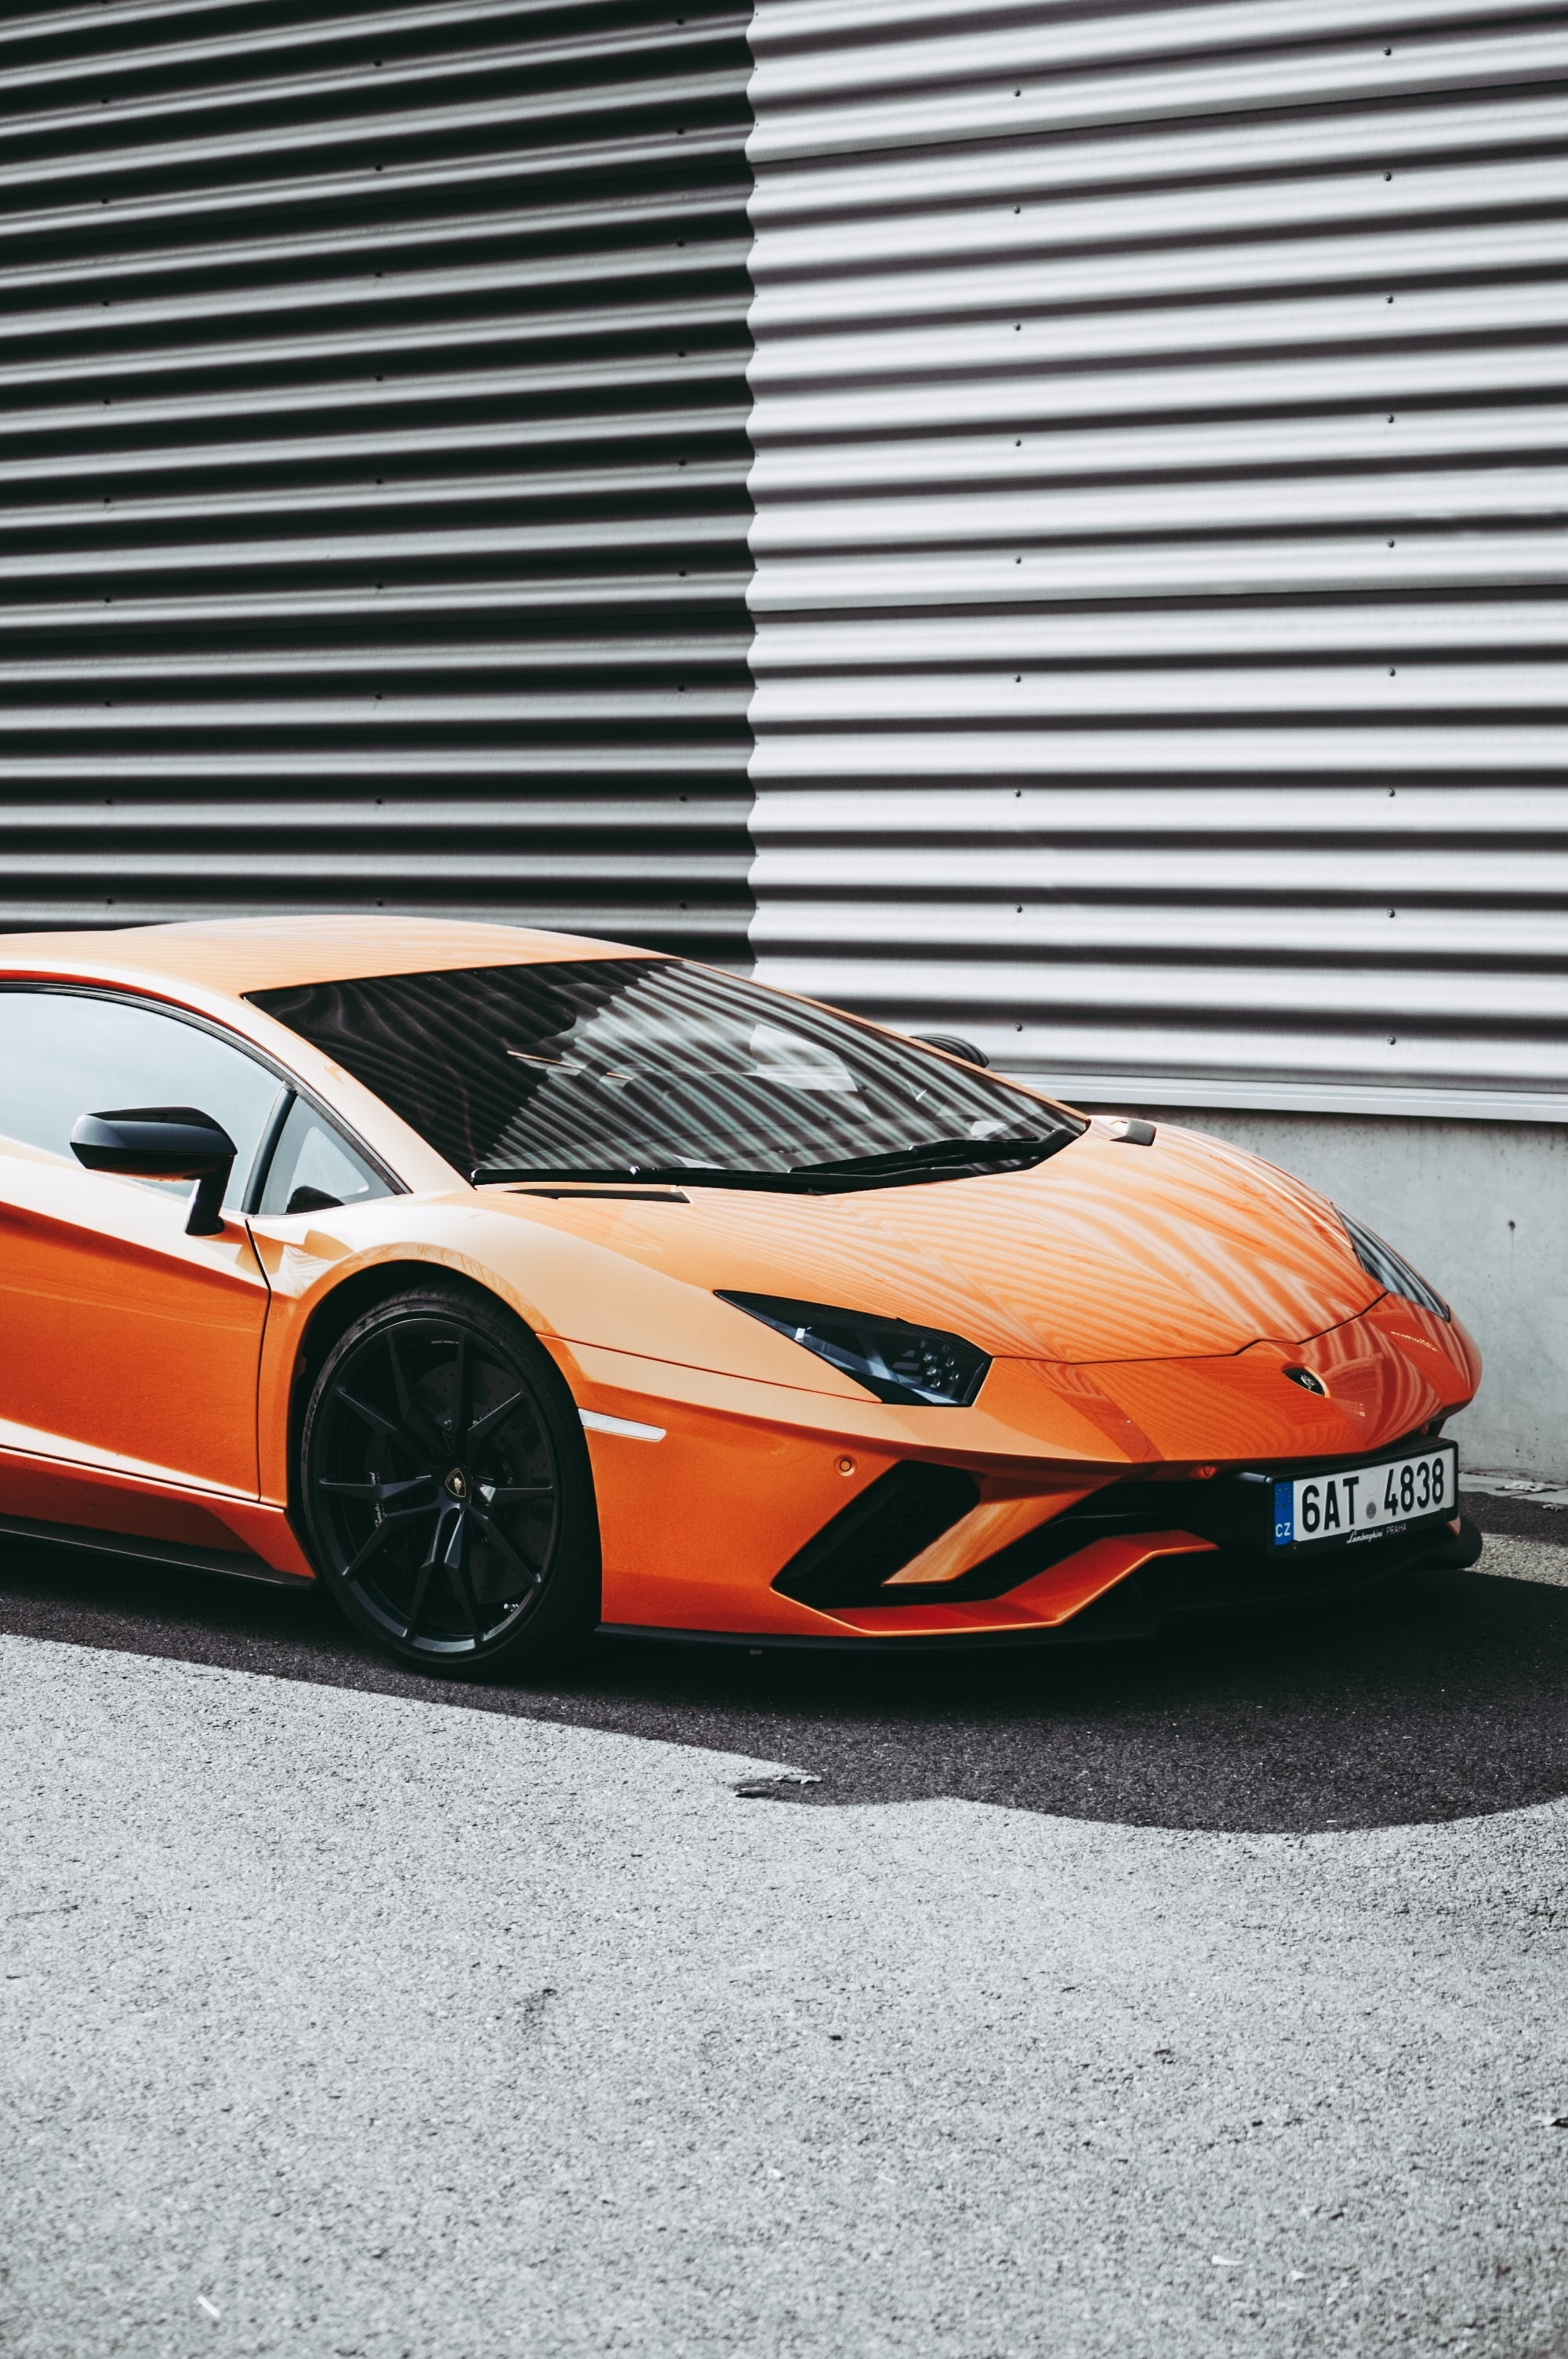plaka: (1270, 1441, 1462, 1556)
